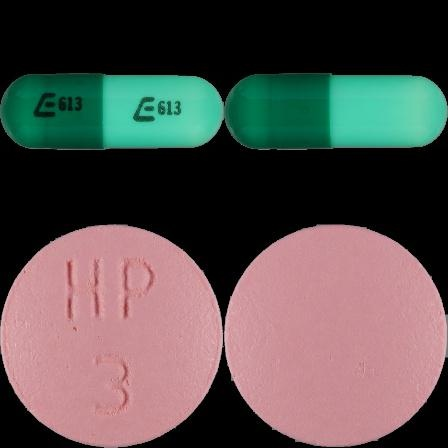54868-2892: (0, 0, 224, 224)
